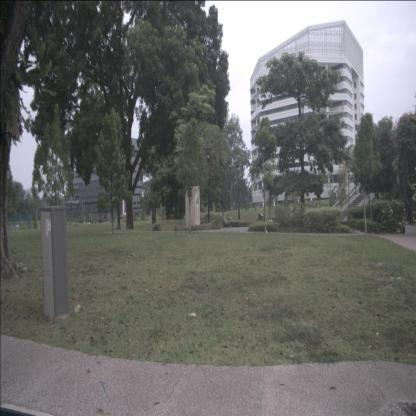vehicle-bicycle: (219, 212, 234, 228)
